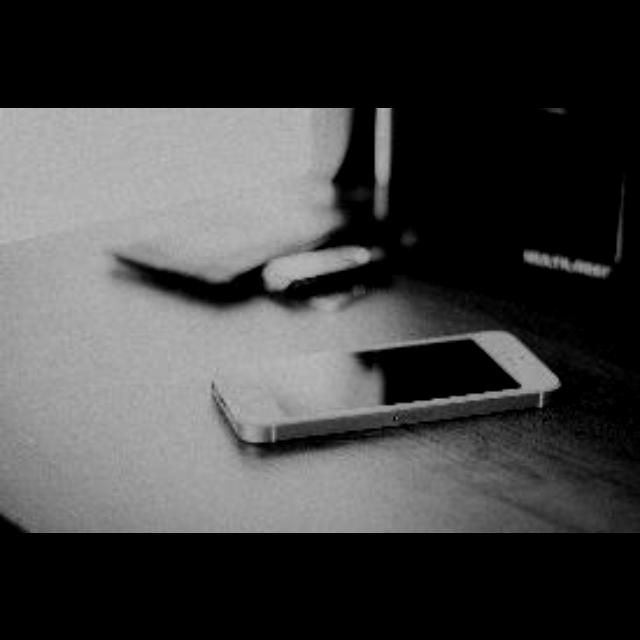fake: (183, 318, 575, 466)
